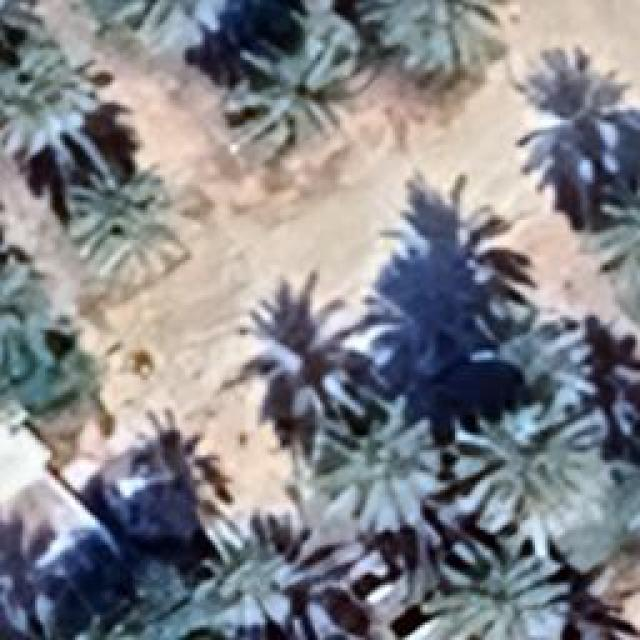PalmTree: (74, 65, 143, 608), (447, 402, 605, 540), (315, 395, 443, 530), (220, 38, 355, 160), (198, 542, 368, 638), (104, 414, 231, 542), (425, 532, 565, 638), (0, 347, 87, 512), (68, 176, 184, 276), (492, 301, 582, 419), (0, 68, 98, 162), (31, 129, 74, 316), (355, 0, 515, 48), (602, 166, 640, 316), (108, 0, 228, 40), (608, 417, 640, 542), (617, 422, 640, 548), (0, 0, 37, 60)
